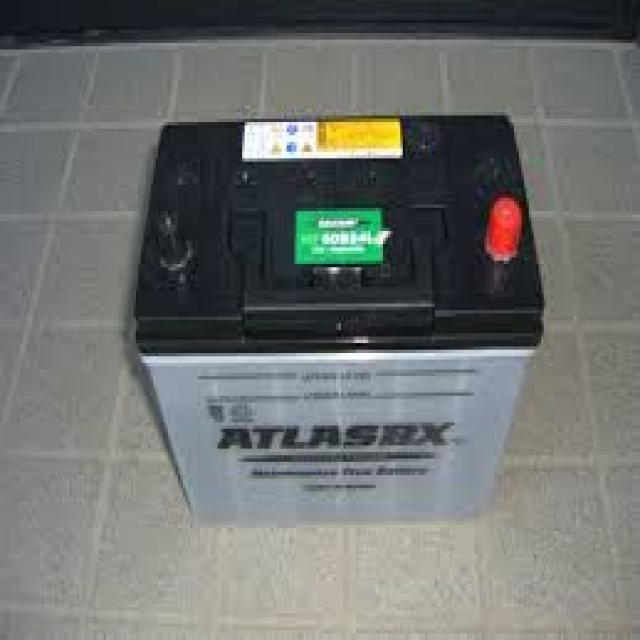non-organic waste: (132, 112, 545, 522)
